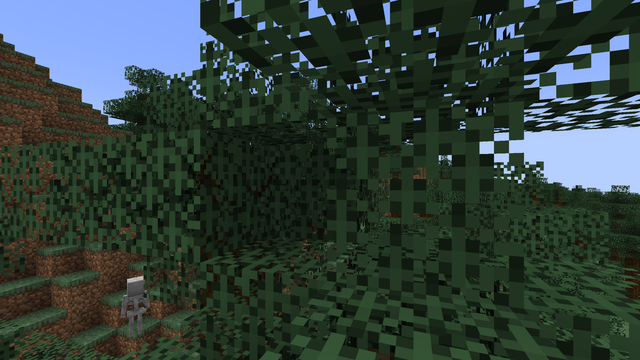squelettes: (121, 275, 149, 340)
